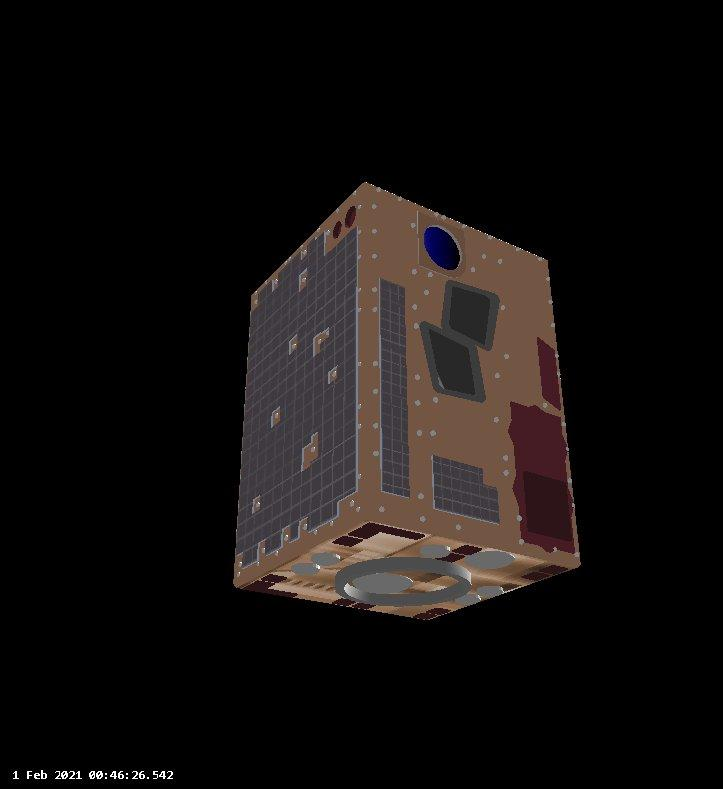body: (228, 175, 586, 625)
solar: (235, 224, 359, 569), (377, 273, 413, 500), (430, 449, 502, 525)
